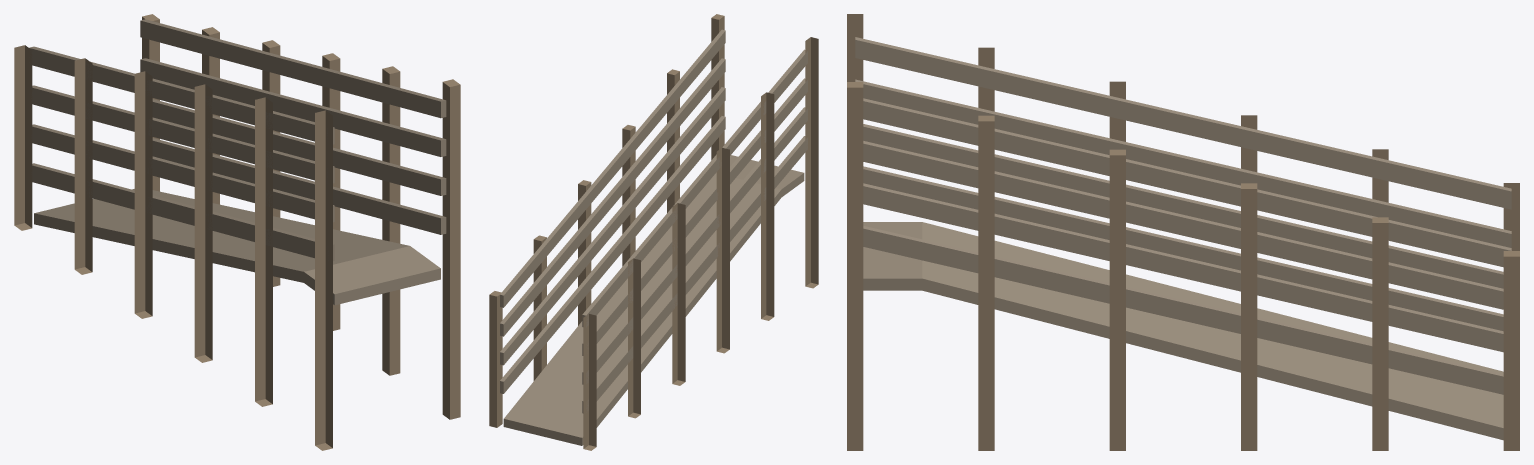
The model's file is loading_chute.glb.
3 renders of one model, left to right at view 1: azimuth 30°, elevation 25°; view 2: azimuth 150°, elevation 25°; view 3: azimuth 270°, elevation 25°, orthographic. The views are drawn at different scales.
Parts seen in each view (by area): view 1: loading_chute; view 2: loading_chute; view 3: loading_chute.
Part boxes in pixels (box(x1,y1,x2,y2)): loading_chute: box(14, 14, 460, 450); loading_chute: box(489, 14, 818, 450); loading_chute: box(847, 14, 1519, 450).
Bounding box in the file's own units: 1.3 × 2.99 × 5.02.
